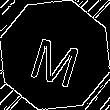M_N: (26, 24, 84, 86)
